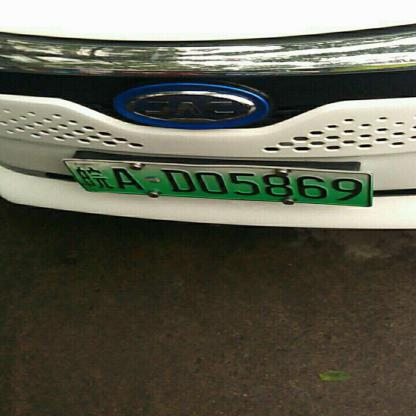lp: (65, 160, 368, 204)
